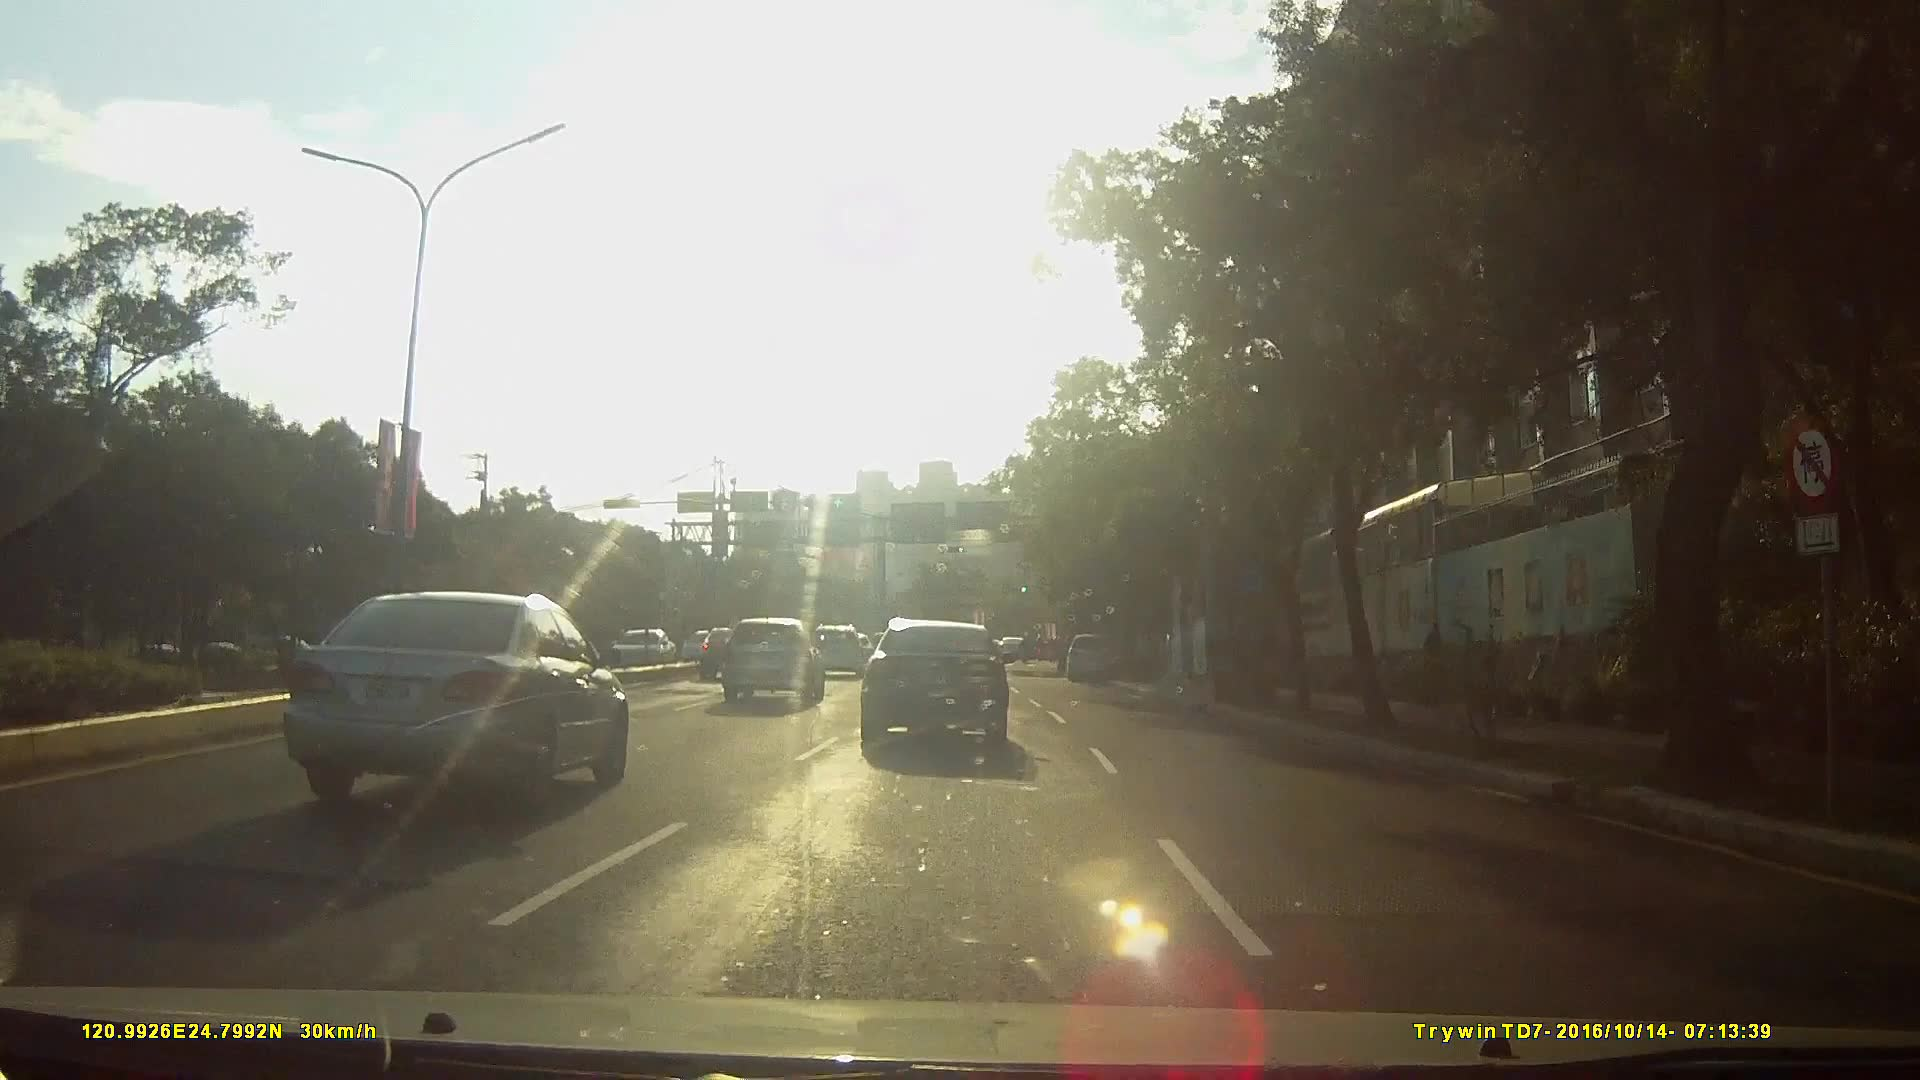vehicle: (256, 582, 642, 822), (860, 611, 1035, 760), (717, 612, 825, 705), (597, 617, 688, 670), (684, 622, 752, 680), (804, 621, 866, 678), (1062, 630, 1117, 680), (680, 626, 727, 663)
